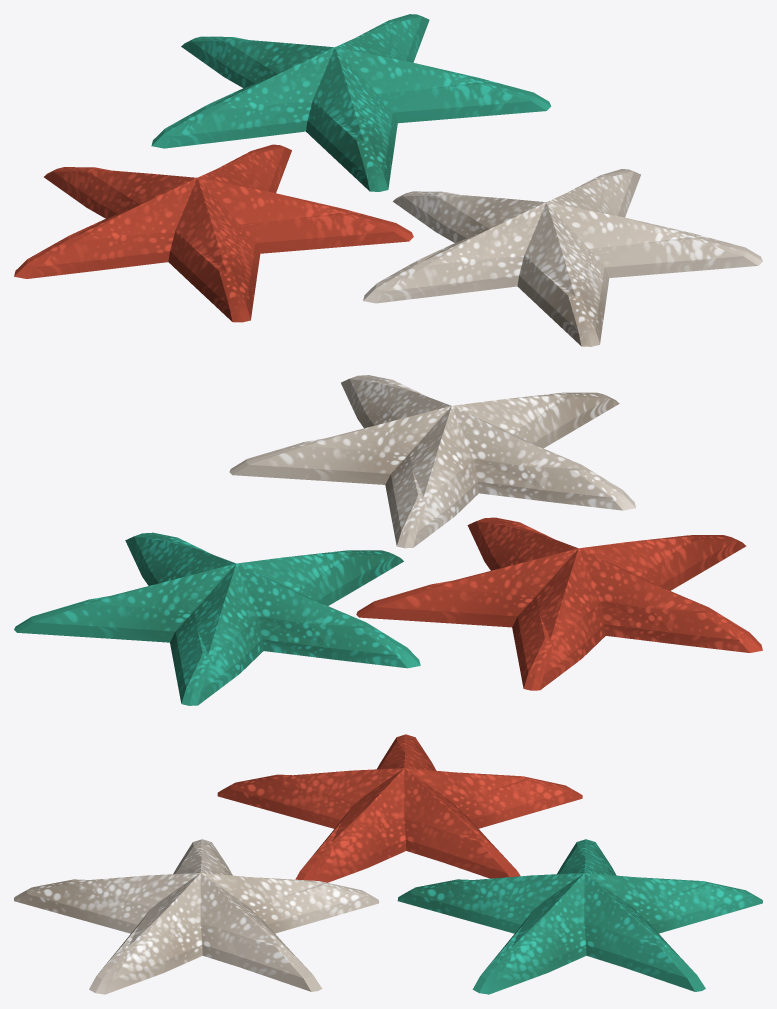
The model's file is starfish.glb.
The picture shows the model from 3 angles, top to bottom: view 1: azimuth 30°, elevation 25°; view 2: azimuth 150°, elevation 25°; view 3: azimuth 270°, elevation 25°; orthographic projection. The views are drawn at different scales.
Parts seen in each view (by area): view 1: Node; view 2: Node; view 3: Node.
Part boxes in pixels (<box>): Node: <box>14,14,762,346</box>; Node: <box>14,375,762,705</box>; Node: <box>14,734,762,994</box>.
Bounding box in the file's own units: 8.37 × 0.7612 × 10.31.
Materials: 3 (3 with a texture image).
